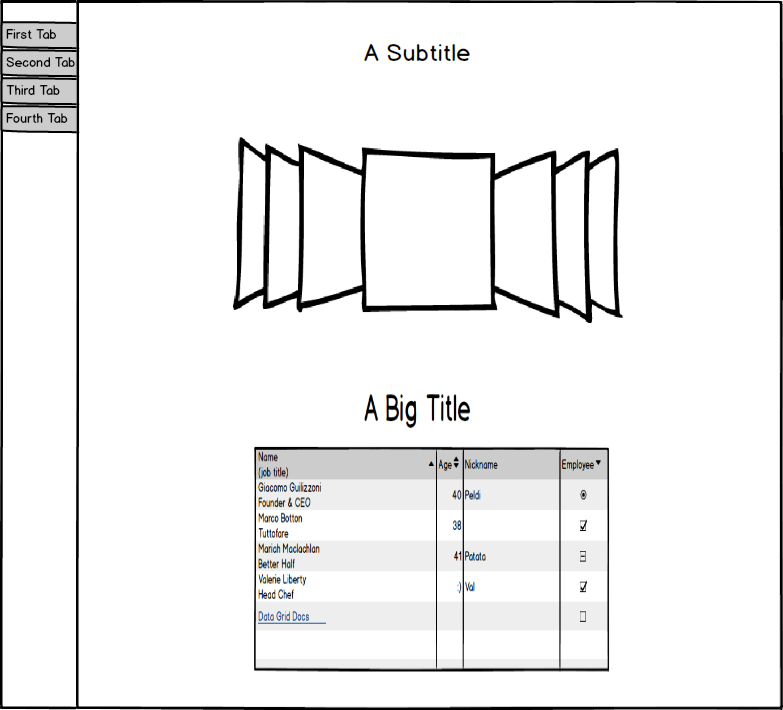h1: (362, 24, 495, 79), (349, 386, 479, 429)
sidebar: (1, 14, 88, 142)
slideshow: (227, 131, 626, 327)
table: (245, 439, 615, 677)
